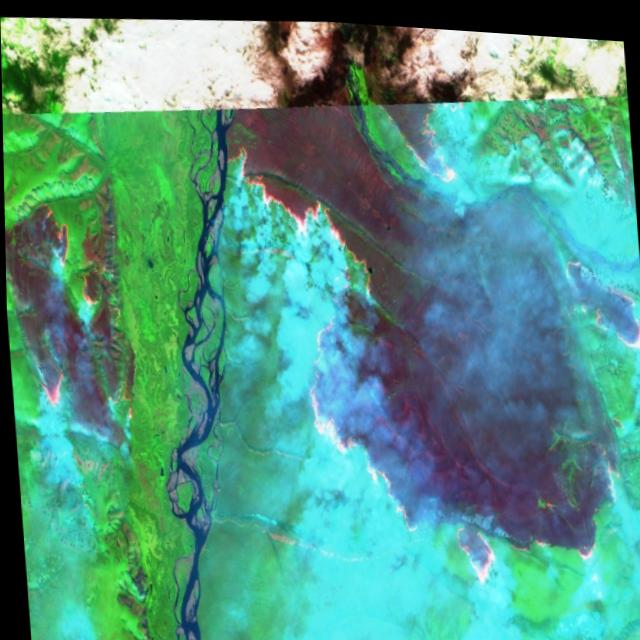fire: (1, 61, 640, 623)
